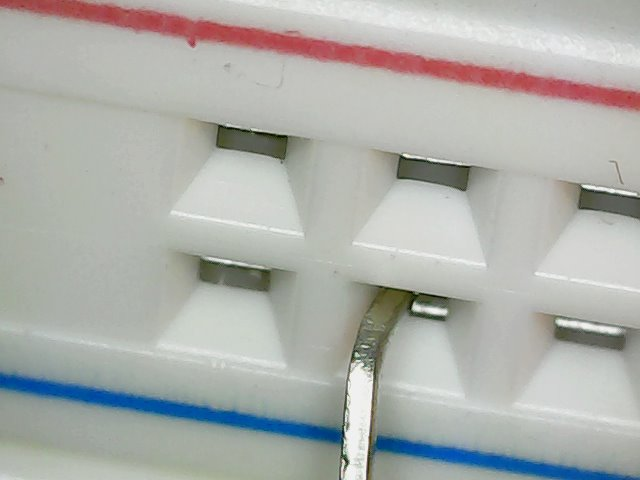connect: (307, 249, 497, 420)
